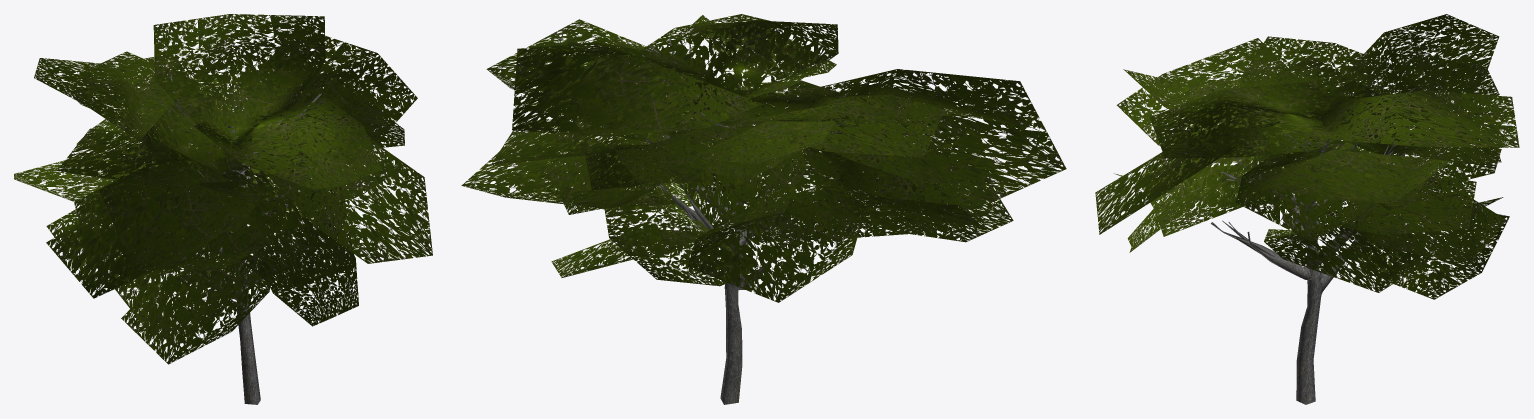
The model's file is TreeLowQuality.fbx.
3 renders of one model, left to right at view 1: azimuth 30°, elevation 25°; view 2: azimuth 150°, elevation 25°; view 3: azimuth 270°, elevation 25°, orthographic. The views are drawn at different scales.
Visible parts, largest first — view 1: TreeLowQuality; view 2: TreeLowQuality; view 3: TreeLowQuality.
Part boxes in pixels (x1=…): TreeLowQuality: x1=14, y1=14, x2=432, y2=404; TreeLowQuality: x1=461, y1=14, x2=1066, y2=404; TreeLowQuality: x1=1095, y1=14, x2=1519, y2=404.
Bounding box in the file's own units: 1356 × 1468 × 1124.
